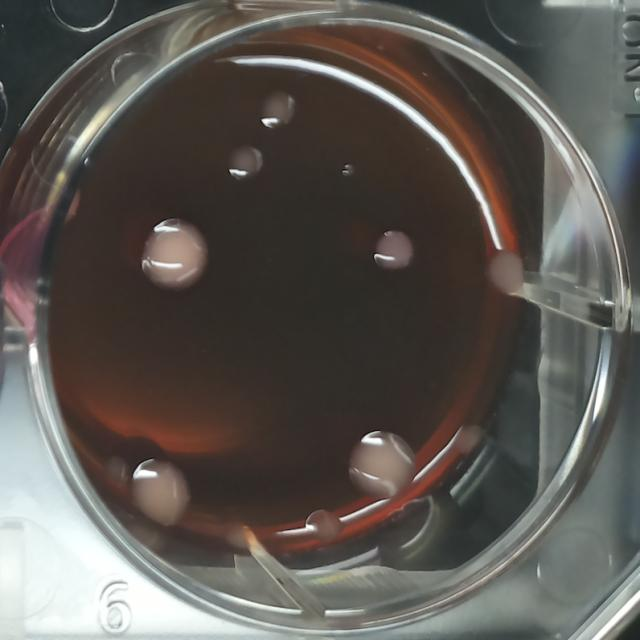Bacillus: (343, 424, 420, 506), (124, 449, 196, 536), (135, 214, 210, 294)
Pseudoalteromonas: (222, 138, 266, 187)
